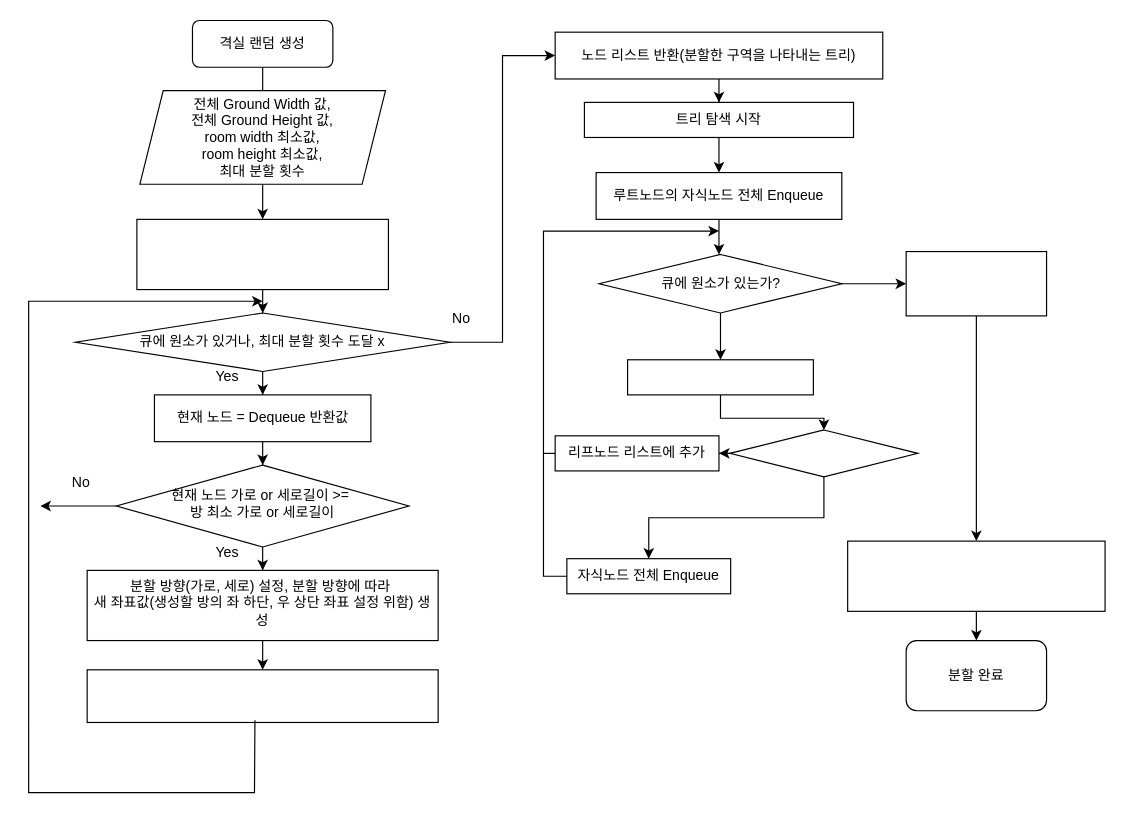
This 1126x823 diagram has some shape labels left out. The centre of each missing label's shape, as x and y in pixels:
리스트 내 노드 좌표값 연결하는 라인 생성(Visualizing): the point at 975,575
리프노드 리스트 반환: the point at 976,283
자식 노드 있는가?: the point at 823,453
전체 Ground(분할 전 초기상태) 를 root node로 설정, 큐에 추가: the point at 262,254
좌표값에 따라 두 개의 방 생성하고, 해당 노드들을 리스트, 큐에 추가: the point at 262,695
현재노드 = Dequeue 반환값.: the point at 719,377
